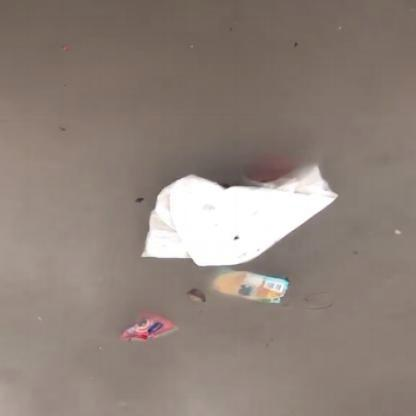Trash: (139, 156, 341, 270), (212, 270, 290, 308), (117, 310, 179, 353)
